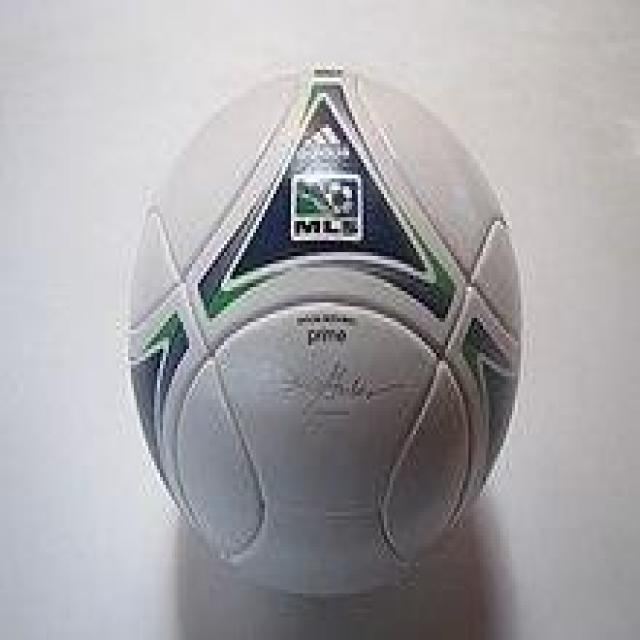Soccer Ball: (128, 66, 521, 601)
